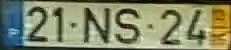1: (50, 5, 64, 43)
2: (157, 7, 183, 46), (25, 4, 50, 43)
4: (184, 8, 208, 47)
N: (82, 6, 111, 45)
S: (112, 6, 142, 46)
